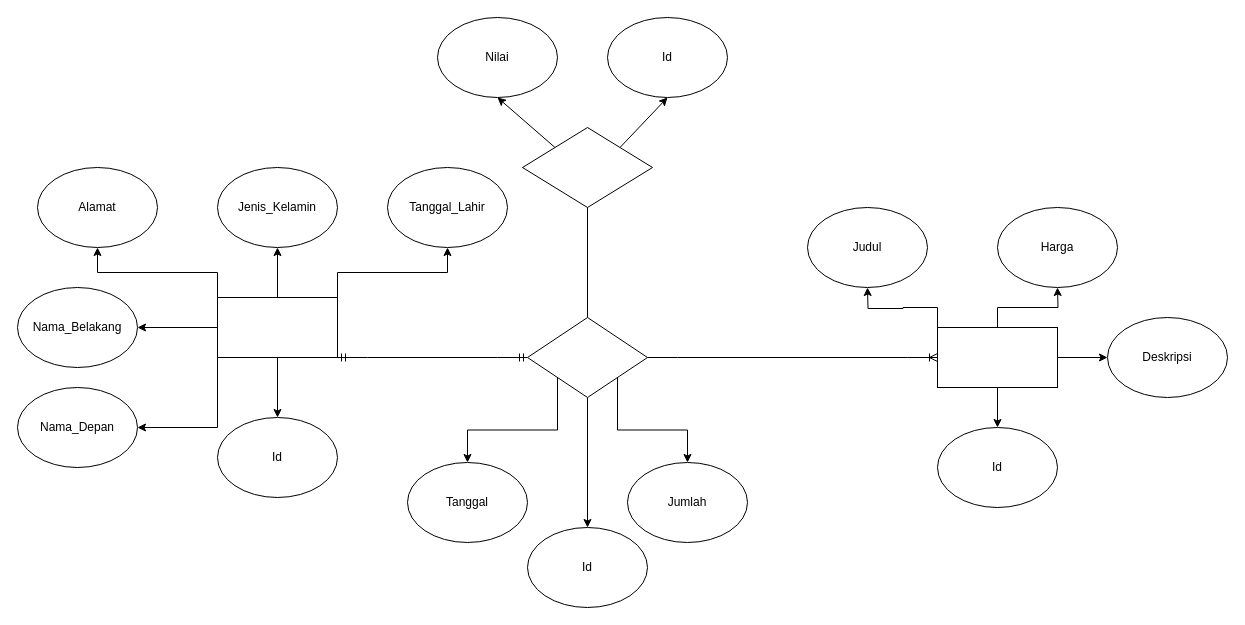
The diagram is 1245 pixels wide and 625 high, and some of its shapes have lost their labels. Each missing label, with the centre of its shape:
"Pembeli" belongs at pixel 277 327.
"Pembelian" belongs at pixel 587 357.
"Penilaian" belongs at pixel 587 167.
"Produk" belongs at pixel 997 357.
